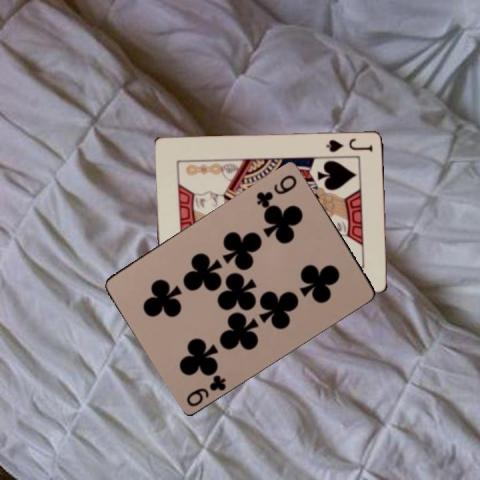9c: (253, 170, 299, 206), (184, 371, 228, 408)
Js: (323, 135, 375, 153)
